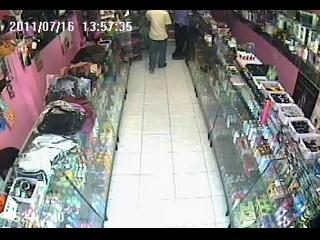Normal: (145, 10, 172, 74), (172, 10, 192, 60)
